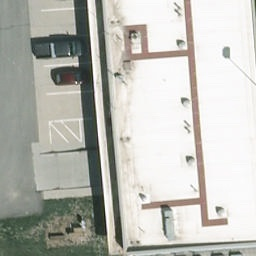car: (52, 68, 98, 86)
pickup: (29, 39, 88, 59)
